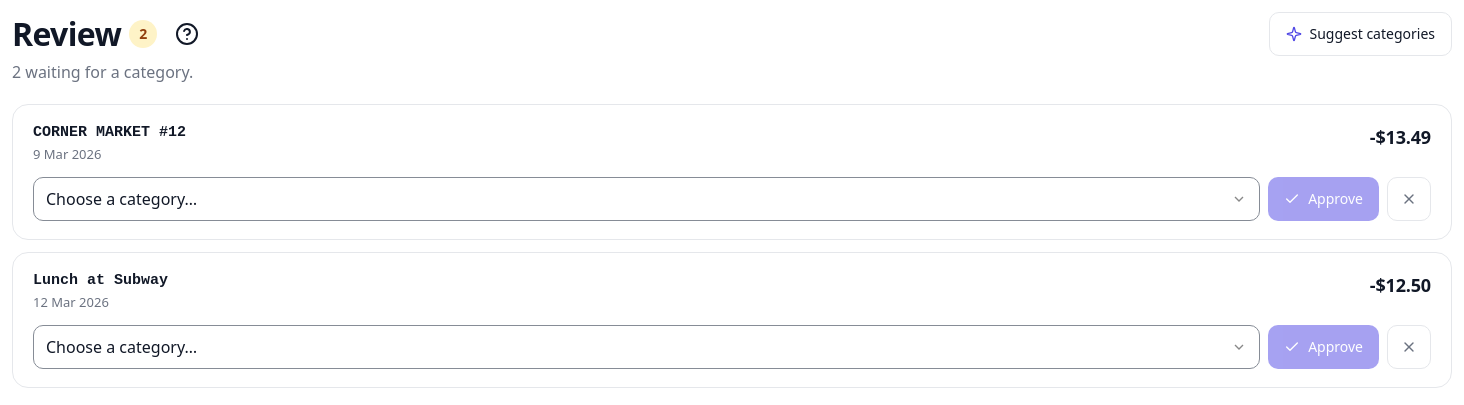
Scenario: what Review says after approving › promises the shop files itself for a statement row, as it will
The image size is (1464, 405).
Select "Groceries" in the dropdown named "Category" below "9 Mar 2026" at (647, 199), box [33, 177, 1260, 221]
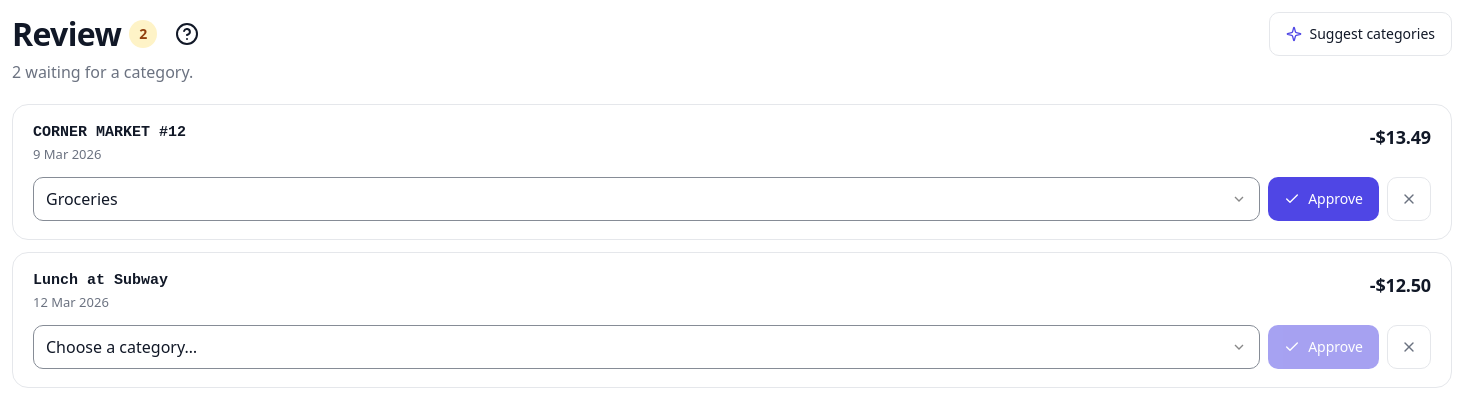
Click the button "Approve" below "-$13.49" at (1324, 199), box [1268, 177, 1379, 221]
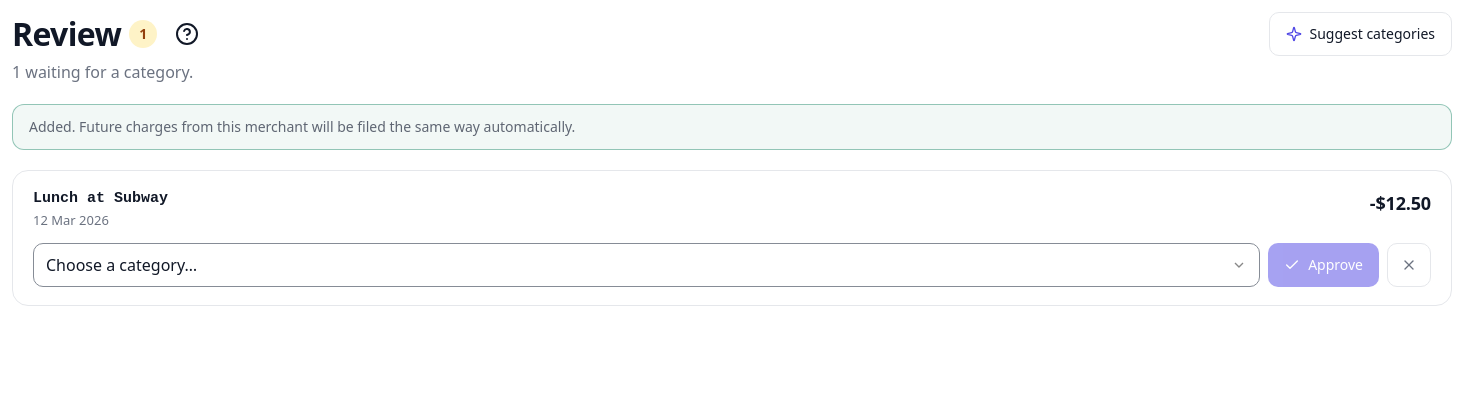
Now the text "will be filed the same way automatically" is shown, box [29, 117, 575, 136]
